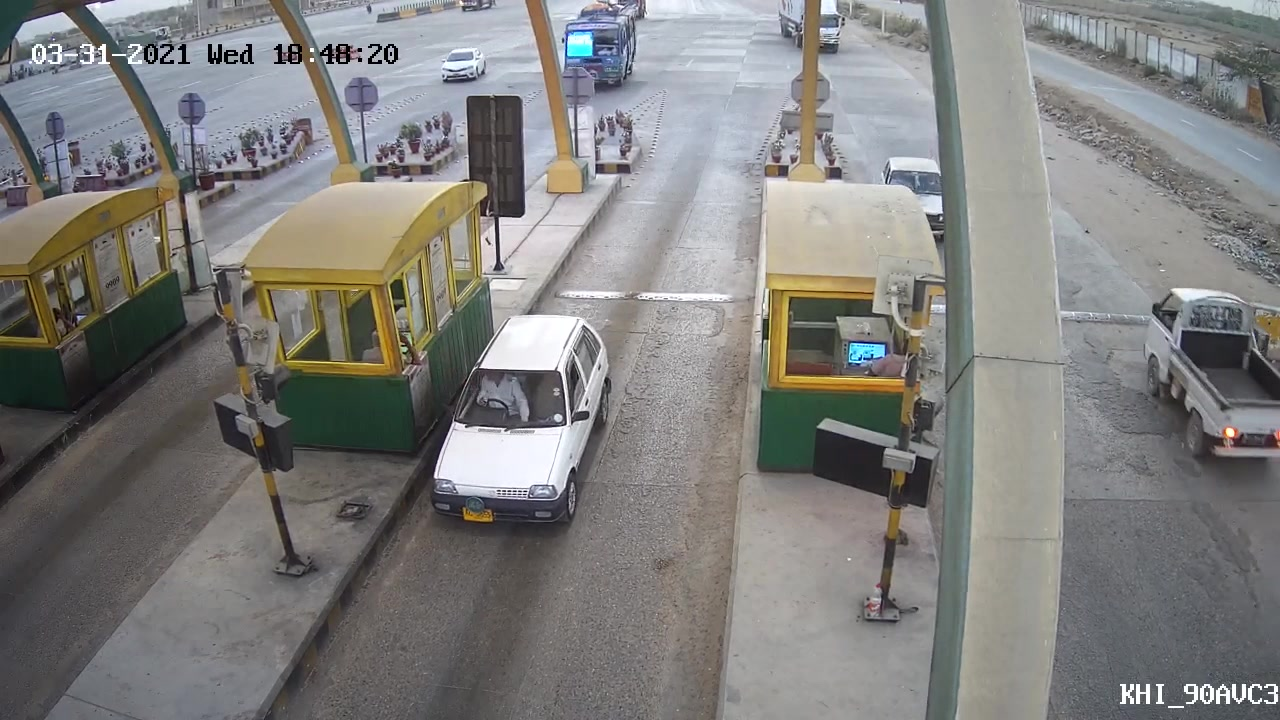F1: (422, 300, 616, 538)
